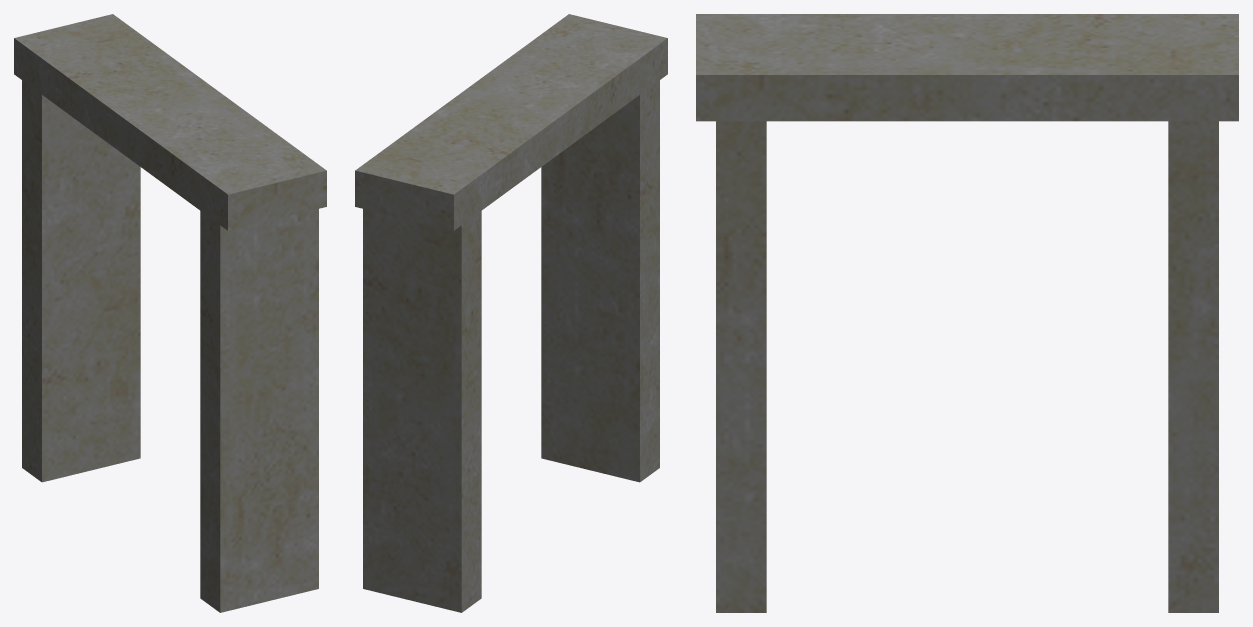
File: mDFrameConcrete01.obj
3 views of the same model, side by side, from view 1: azimuth 30°, elevation 25°; view 2: azimuth 150°, elevation 25°; view 3: azimuth 270°, elevation 25° (orthographic). The views are drawn at different scales.
Parts seen in each view (by area): view 1: DFrameConcrete01; view 2: DFrameConcrete01; view 3: DFrameConcrete01.
Part boxes in pixels (x1,y1,x2,y2): DFrameConcrete01: (14, 14, 326, 612); DFrameConcrete01: (355, 14, 667, 612); DFrameConcrete01: (696, 14, 1238, 612).
Size of the model in its own units: 0.8 by 3.28 by 3.
